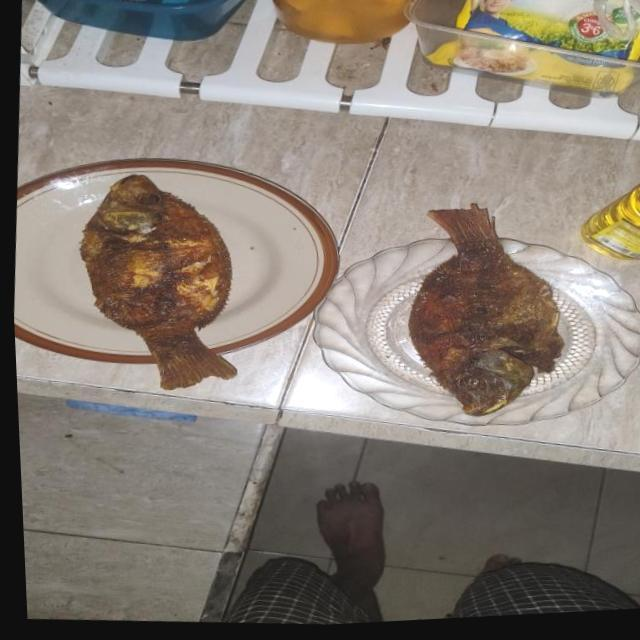ikan_mujair: (79, 174, 236, 390), (408, 204, 564, 416)
